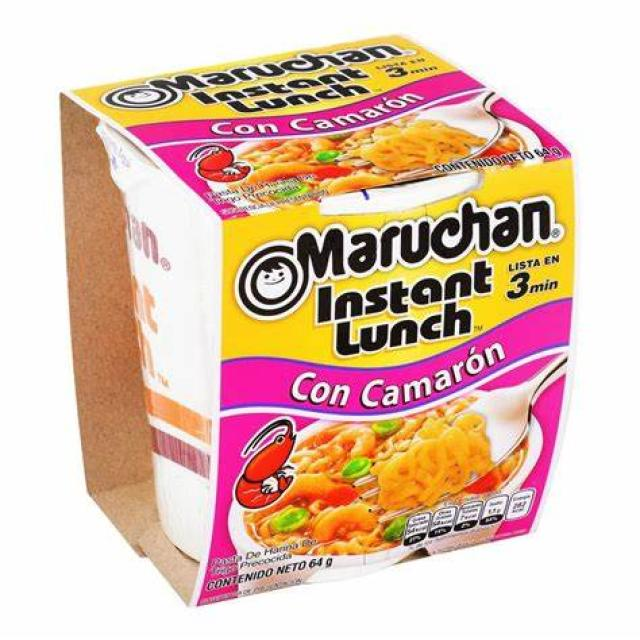Caja: (40, 21, 578, 596)
